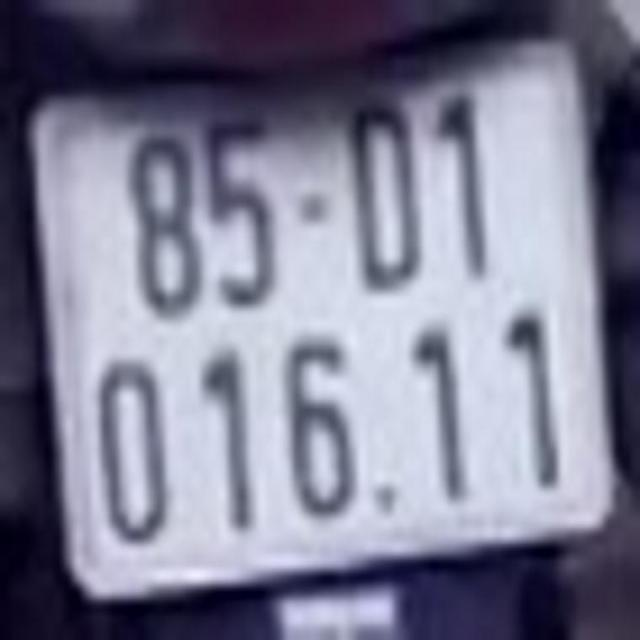0: (95, 356, 173, 543)
1: (498, 296, 577, 490), (405, 308, 478, 503), (195, 338, 266, 529), (436, 90, 499, 280)
5: (196, 112, 287, 310)
6: (278, 324, 359, 518)
8: (120, 122, 203, 320)
D: (348, 98, 430, 296)
